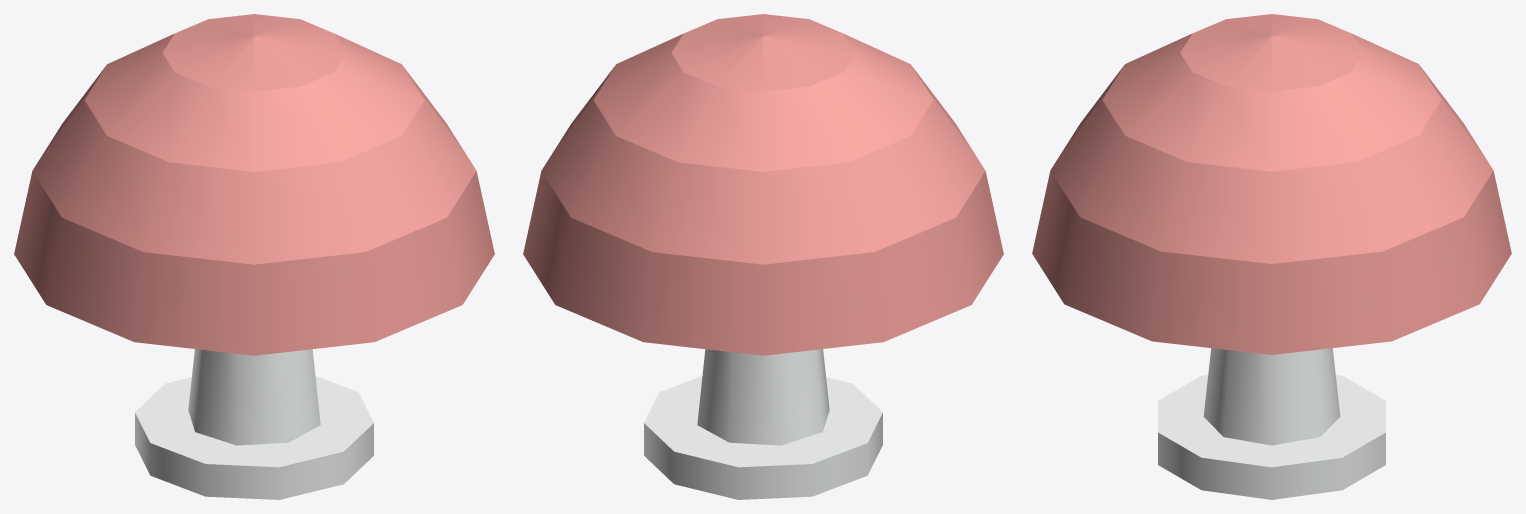
The model's file is lampMushroom.glb.
3 renders of one model, left to right at view 1: azimuth 30°, elevation 25°; view 2: azimuth 150°, elevation 25°; view 3: azimuth 270°, elevation 25°, orthographic.
Parts seen in each view (by area): view 1: lampMushroom; view 2: lampMushroom; view 3: lampMushroom.
Boxes of the visible parts, bbox=[...] form: lampMushroom: bbox=[14, 14, 494, 499]; lampMushroom: bbox=[523, 14, 1003, 499]; lampMushroom: bbox=[1032, 14, 1511, 499].
Size of the model in its own units: 0.2 by 0.19 by 0.2.
